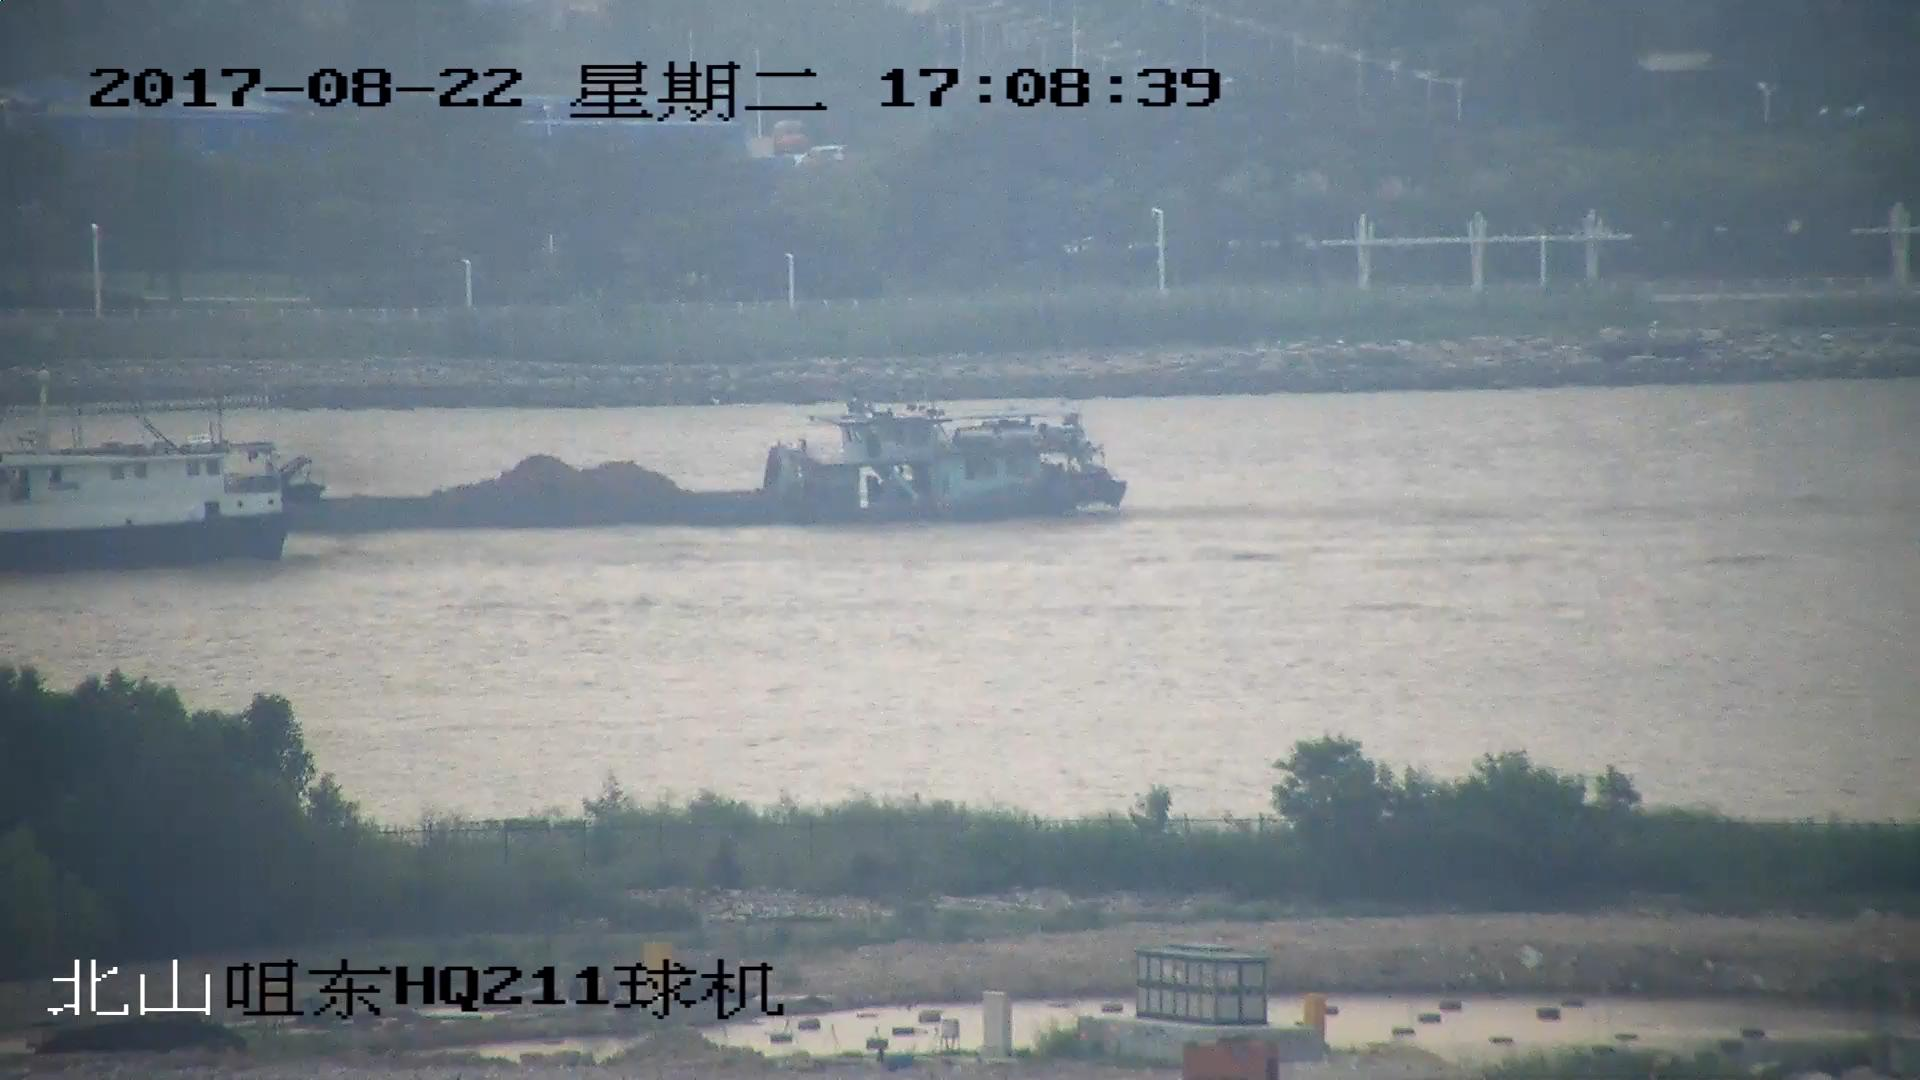fishing boat: (1, 441, 295, 565)
ore carrier: (191, 401, 1125, 520)
